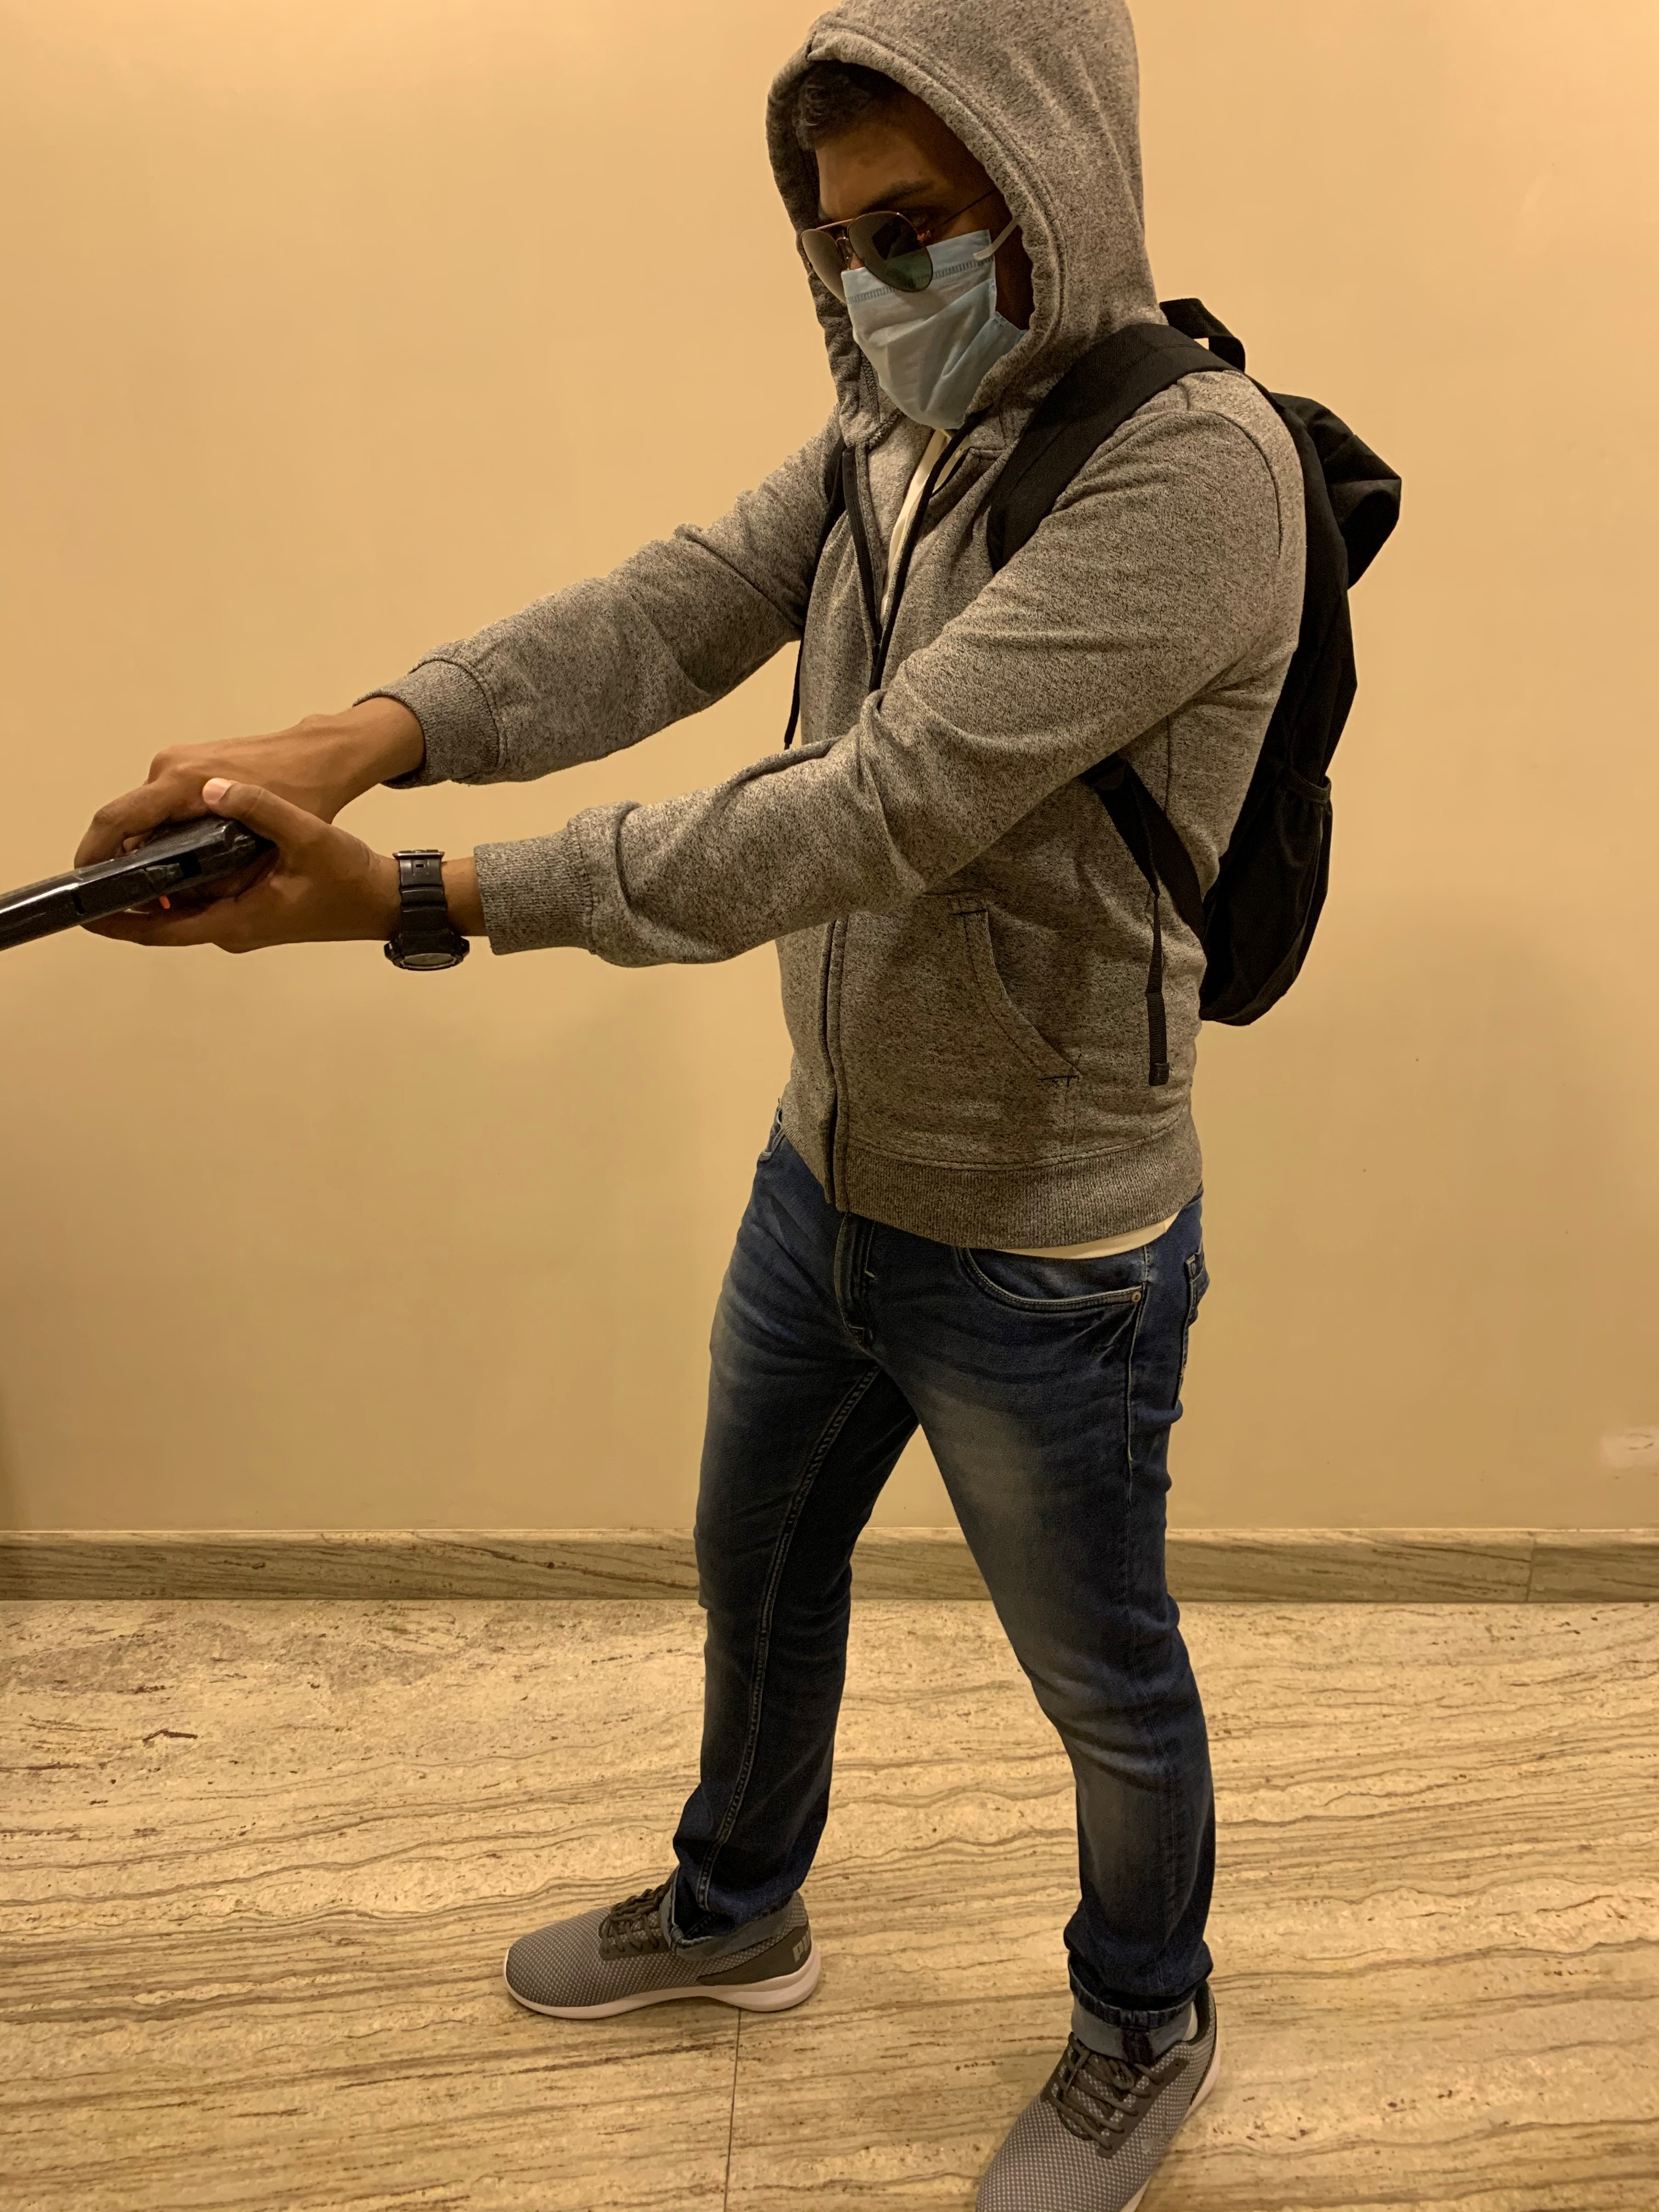gun: (0, 791, 277, 935)
